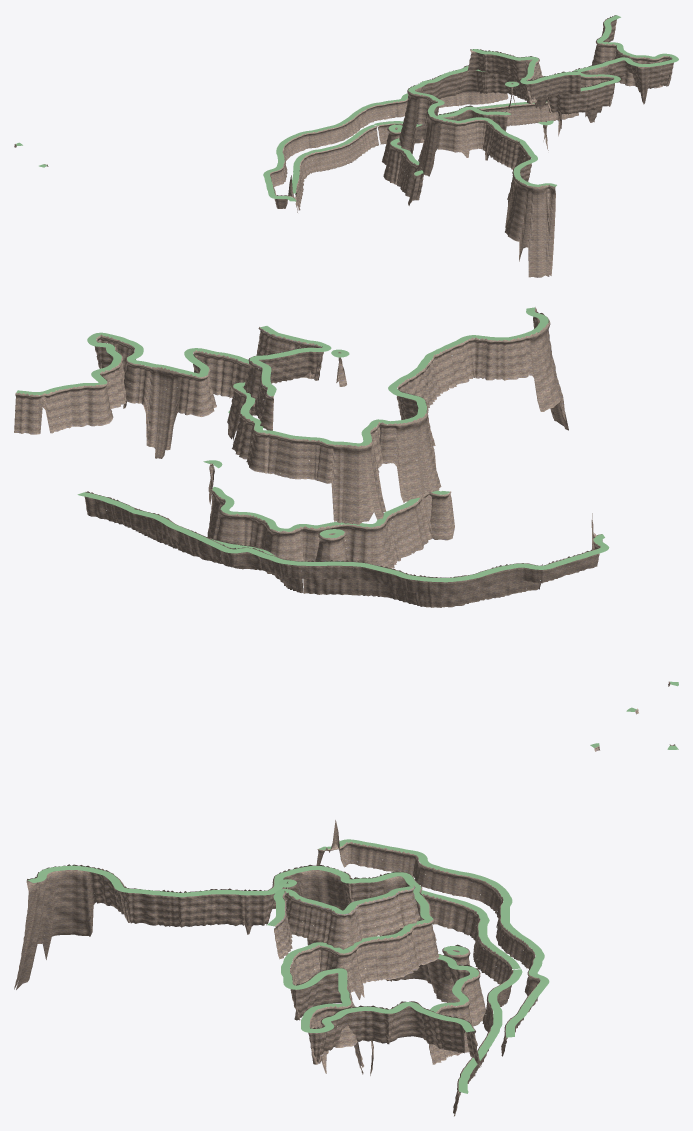
Rendered from CliffWall_plateau_B25.glb.
3 renders of one model, top to bottom at view 1: azimuth 30°, elevation 25°; view 2: azimuth 150°, elevation 25°; view 3: azimuth 270°, elevation 25°, orthographic. The views are drawn at different scales.
Visible parts, largest first — view 1: CliffWall_plateau_B25-rock2, CliffWall_plateau_B25-rock4, CliffWall_plateau_B25-lip2, CliffWall_plateau_B25-rock0, CliffWall_plateau_B25-rock5, CliffWall_plateau_B25-rock10, CliffWall_plateau_B25-rock11, CliffWall_plateau_B25-lip4, CliffWall_plateau_B25-lip0, CliffWall_plateau_B25-lip5, CliffWall_plateau_B25-lip10; view 2: CliffWall_plateau_B25-rock2, CliffWall_plateau_B25-rock5, CliffWall_plateau_B25-rock4, CliffWall_plateau_B25-lip2, CliffWall_plateau_B25-rock0, CliffWall_plateau_B25-rock10, CliffWall_plateau_B25-lip4, CliffWall_plateau_B25-rock11, CliffWall_plateau_B25-lip5, CliffWall_plateau_B25-lip0, CliffWall_plateau_B25-rock6; view 3: CliffWall_plateau_B25-rock2, CliffWall_plateau_B25-lip2, CliffWall_plateau_B25-rock0, CliffWall_plateau_B25-rock4, CliffWall_plateau_B25-rock5, CliffWall_plateau_B25-rock10, CliffWall_plateau_B25-lip4, CliffWall_plateau_B25-lip11, CliffWall_plateau_B25-lip0, CliffWall_plateau_B25-lip10, CliffWall_plateau_B25-rock11, CliffWall_plateau_B25-lip5 (+1 smaller).
Boxes of the visible parts, x1,y1,x2,y2 form: CliffWall_plateau_B25-rock2: [399, 15, 673, 277]; CliffWall_plateau_B25-rock4: [270, 91, 508, 212]; CliffWall_plateau_B25-lip2: [408, 15, 678, 186]; CliffWall_plateau_B25-rock0: [467, 49, 580, 104]; CliffWall_plateau_B25-rock5: [383, 105, 507, 205]; CliffWall_plateau_B25-rock10: [295, 125, 378, 210]; CliffWall_plateau_B25-rock11: [378, 102, 578, 144]; CliffWall_plateau_B25-lip4: [263, 93, 408, 201]; CliffWall_plateau_B25-lip0: [471, 49, 580, 84]; CliffWall_plateau_B25-lip5: [390, 106, 511, 175]; CliffWall_plateau_B25-lip10: [292, 125, 376, 193]; CliffWall_plateau_B25-rock2: [14, 307, 568, 532]; CliffWall_plateau_B25-rock5: [207, 490, 454, 573]; CliffWall_plateau_B25-rock4: [134, 508, 602, 595]; CliffWall_plateau_B25-lip2: [16, 307, 548, 446]; CliffWall_plateau_B25-rock0: [243, 327, 323, 430]; CliffWall_plateau_B25-rock10: [303, 564, 542, 607]; CliffWall_plateau_B25-lip4: [132, 509, 609, 582]; CliffWall_plateau_B25-rock11: [84, 491, 303, 592]; CliffWall_plateau_B25-lip5: [212, 487, 449, 531]; CliffWall_plateau_B25-lip0: [250, 326, 331, 396]; CliffWall_plateau_B25-rock6: [315, 528, 347, 561]; CliffWall_plateau_B25-rock2: [14, 864, 481, 1074]; CliffWall_plateau_B25-lip2: [27, 865, 474, 1032]; CliffWall_plateau_B25-rock0: [274, 885, 420, 959]; CliffWall_plateau_B25-rock4: [316, 820, 540, 1056]; CliffWall_plateau_B25-rock5: [307, 939, 485, 1064]; CliffWall_plateau_B25-rock10: [422, 894, 512, 984]; CliffWall_plateau_B25-lip4: [318, 839, 549, 1037]; CliffWall_plateau_B25-lip11: [458, 969, 522, 1093]; CliffWall_plateau_B25-lip0: [267, 885, 413, 926]; CliffWall_plateau_B25-lip10: [421, 890, 520, 969]; CliffWall_plateau_B25-rock11: [453, 970, 513, 1116]; CliffWall_plateau_B25-lip5: [363, 938, 478, 1012].
Size of the model in its own units: 3492 by 686 by 2699.
4 materials, 1 textured.
